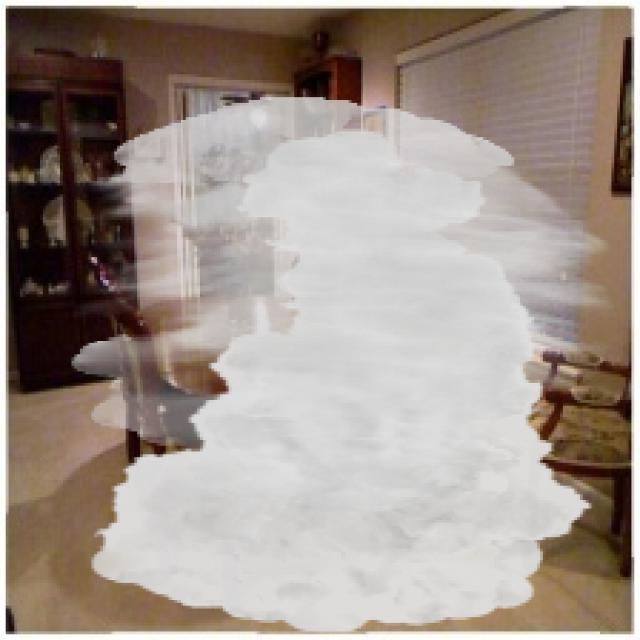Smoke: (71, 97, 614, 634)
